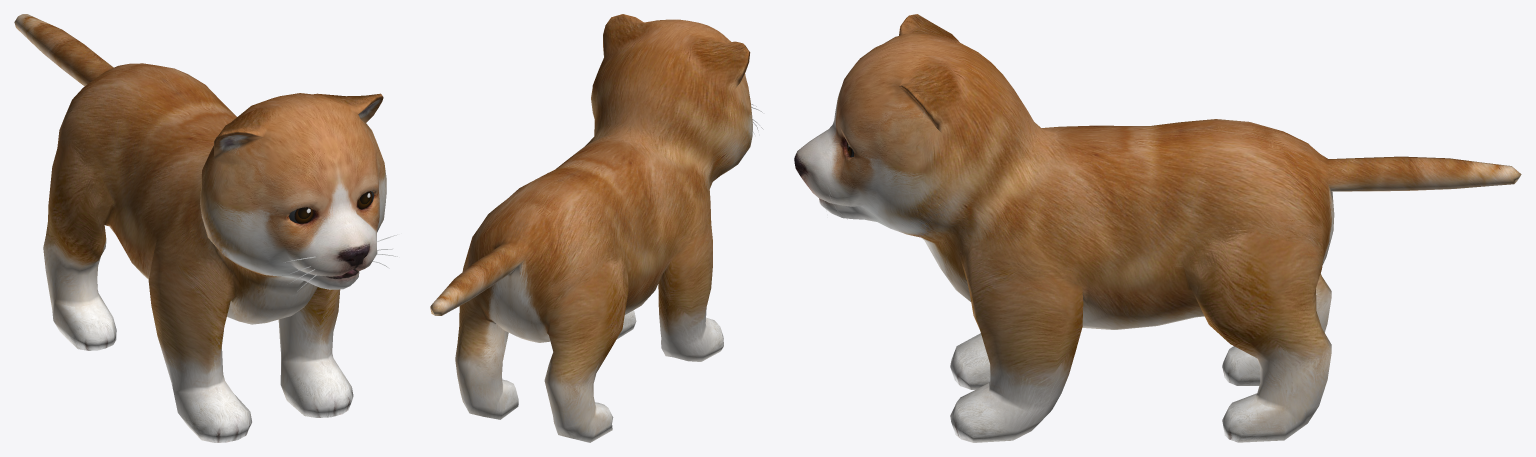
File: SK_Dog.fbx
The picture shows the model from 3 angles, left to right: view 1: azimuth 30°, elevation 25°; view 2: azimuth 150°, elevation 25°; view 3: azimuth 270°, elevation 25°; orthographic projection. The views are drawn at different scales.
Parts seen in each view (by area): view 1: L02_S03_Dog; view 2: L02_S03_Dog; view 3: L02_S03_Dog.
Boxes of the visible parts, left/top/right/bottom form: L02_S03_Dog: left=14, top=14, right=397, bottom=442; L02_S03_Dog: left=430, top=14, right=763, bottom=442; L02_S03_Dog: left=794, top=14, right=1521, bottom=442.
Bounding box in the file's own units: 17.92 × 33.23 × 60.94.
